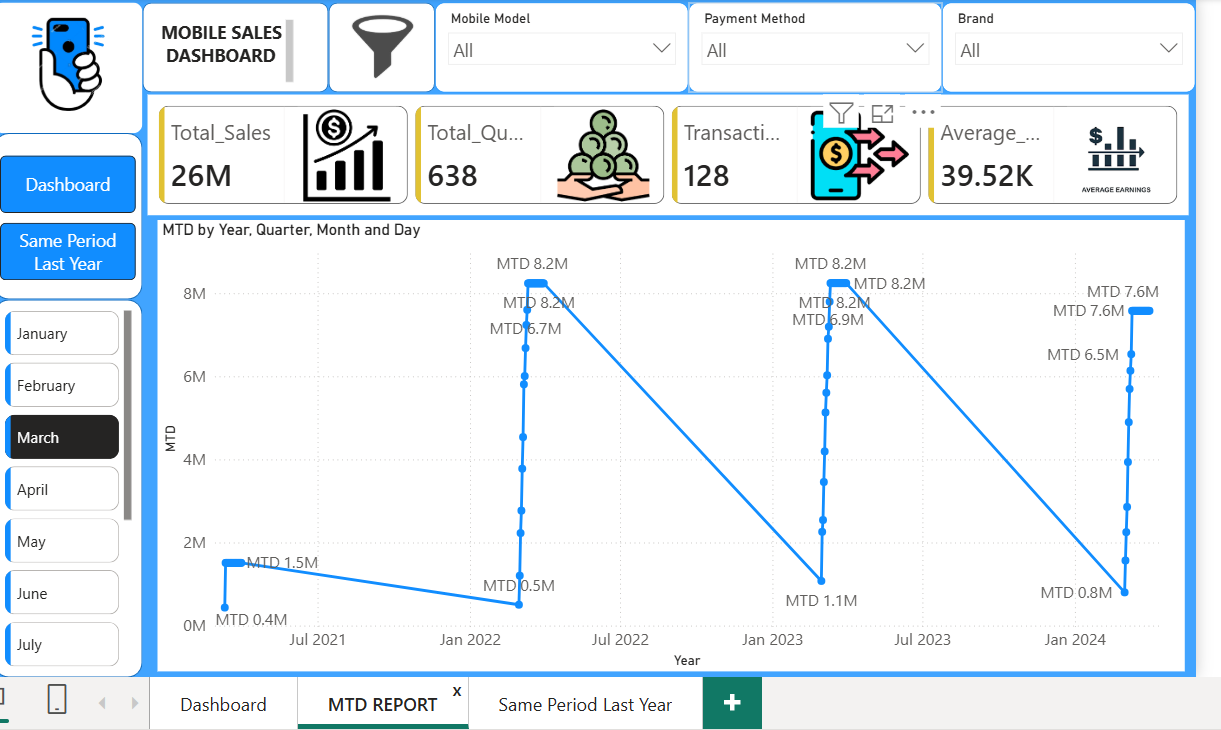

This screenshot's page, from the dashboard's own definition file:
{"tool":"powerbi","page":{"name":"MTD REPORT","canvas":[1280,720],"ordinal":1},"visuals":[{"type":"image","box":[6.4,4.8,157.5,138.4],"z":0},{"type":"shape","box":[6.4,143.2,157.5,176.6],"z":1000},{"type":"shape","box":[6.4,319.7,157.5,400.8],"z":2000},{"type":"advancedSlicerVisual","fields":{"Values":["Custom_Calendar.Date.Variation.Date Hierarchy.Month"]},"box":[12.7,326.1,144.7,388.1],"z":3000},{"type":"cardVisual","fields":{"Data":["Mobile_Sales_Data.Total_Sales","Mobile_Sales_Data.Total_Quantity","Mobile_Sales_Data.Transaction","Mobile_Sales_Data.Average_Price"]},"box":[163.8,97,1116.6,138.4],"z":4000},{"type":"slicer","fields":{"Values":["Mobile_Sales_Data.Mobile Model"]},"box":[474,4.8,268.8,95.4],"z":5000},{"type":"slicer","fields":{"Values":["Mobile_Sales_Data.Payment Method"]},"box":[742.8,4.8,268.8,95.4],"z":6000},{"type":"slicer","fields":{"Values":["Mobile_Sales_Data.Brand"]},"box":[1011.6,4.8,268.8,95.4],"z":7000},{"type":"shape","box":[361.1,4.8,112.9,95.4],"z":8000},{"type":"shape","box":[163.8,4.8,197.2,95.4],"z":9000},{"type":"textbox","box":[179.7,19.1,147.9,77.9],"z":10000},{"type":"image","box":[372.2,15.9,92.3,71.6],"z":11000},{"type":"lineChart","fields":{"Y":["Mobile_Sales_Data.MTD"],"Category":["Custom_Calendar.Date.Variation.Date Hierarchy.Year","Custom_Calendar.Date.Variation.Date Hierarchy.Quarter","Custom_Calendar.Date.Variation.Date Hierarchy.Month","Custom_Calendar.Date.Variation.Date Hierarchy.Day"]},"box":[179.7,235.4,1089.6,478.8],"z":12000},{"type":"pageNavigator","box":[12.7,167,144.7,132],"z":13000}]}

Visuals, with their boxes on the page's 1280x720 design canvas (x1, y1, x2, y2). These are canvas units, not pixel positions in the 1221x730 screenshot, which may show the page scaled, cropped or inside an application window:
image: 6 5 164 143
shape: 6 143 164 320
shape: 6 320 164 720
advancedSlicerVisual - Custom_Calendar.Date.Variation.Date Hierarchy.Month: 13 326 157 714
cardVisual - Mobile_Sales_Data.Total_Sales x Mobile_Sales_Data.Total_Quantity: 164 97 1280 235
slicer - Mobile_Sales_Data.Mobile Model: 474 5 743 100
slicer - Mobile_Sales_Data.Payment Method: 743 5 1012 100
slicer - Mobile_Sales_Data.Brand: 1012 5 1280 100
shape: 361 5 474 100
shape: 164 5 361 100
textbox: 180 19 328 97
image: 372 16 464 88
lineChart - Mobile_Sales_Data.MTD x Custom_Calendar.Date.Variation.Date Hierarchy.Year: 180 235 1269 714
pageNavigator: 13 167 157 299
